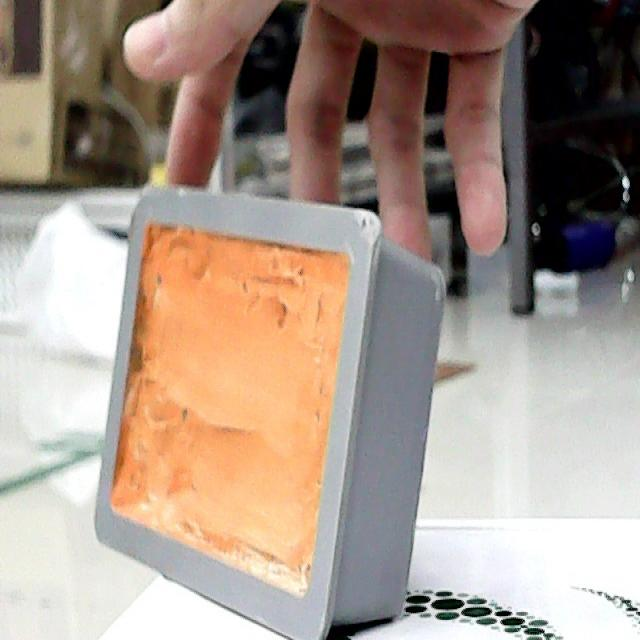block: (96, 186, 448, 640)
